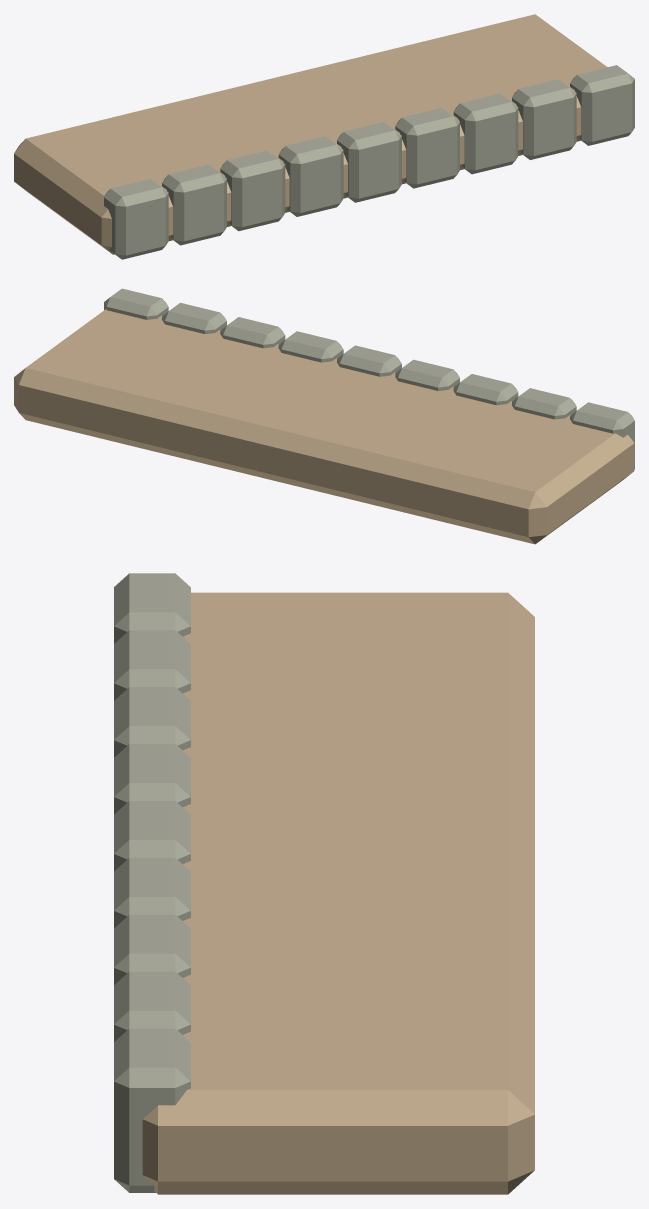
3 renders of one model, top to bottom at view 1: azimuth 30°, elevation 25°; view 2: azimuth 150°, elevation 25°; view 3: azimuth 270°, elevation 25°, orthographic. The views are drawn at different scales.
Visible parts, largest first — view 1: BA-0080 batched; view 2: BA-0080 batched; view 3: BA-0080 batched.
Part boxes in pixels (x1,y1,x2,y2): BA-0080 batched: (14,14,634,259); BA-0080 batched: (14,288,634,544); BA-0080 batched: (114,573,534,1194).
Bounding box in the file's own units: 3.2 × 0.36 × 1.09.
